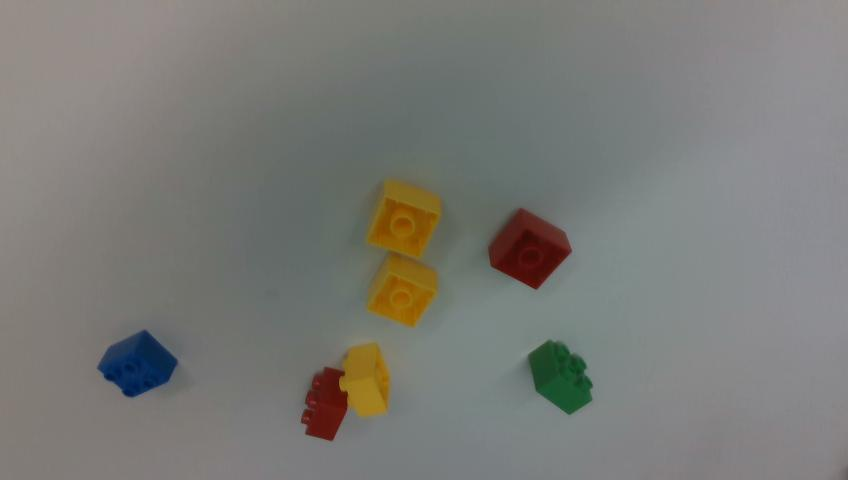2x2_blue: (97, 330, 177, 397)
2x2_green: (528, 340, 592, 414)
2x2_red: (489, 208, 571, 288), (301, 367, 347, 440)
2x2_yellow: (368, 179, 441, 258), (367, 253, 437, 327), (339, 344, 389, 417)
